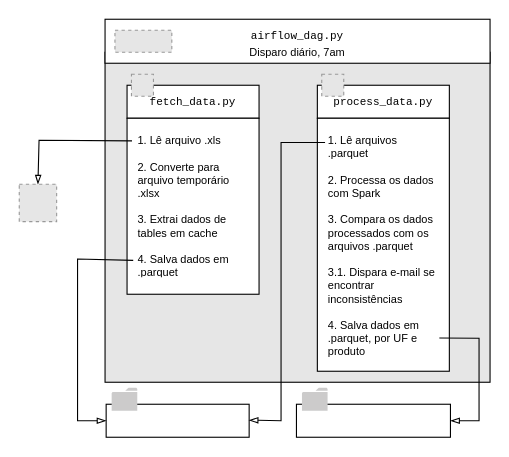
Image size: 509x457. Some labels were removed from this diagram. Grey dashed boxes stand in for pictures. Here are the shapes that lost their labels. From the top down, the centre of each, then its label:
At point (177, 420): "data_output/raw".
At point (372, 420): "data_output/processed".
